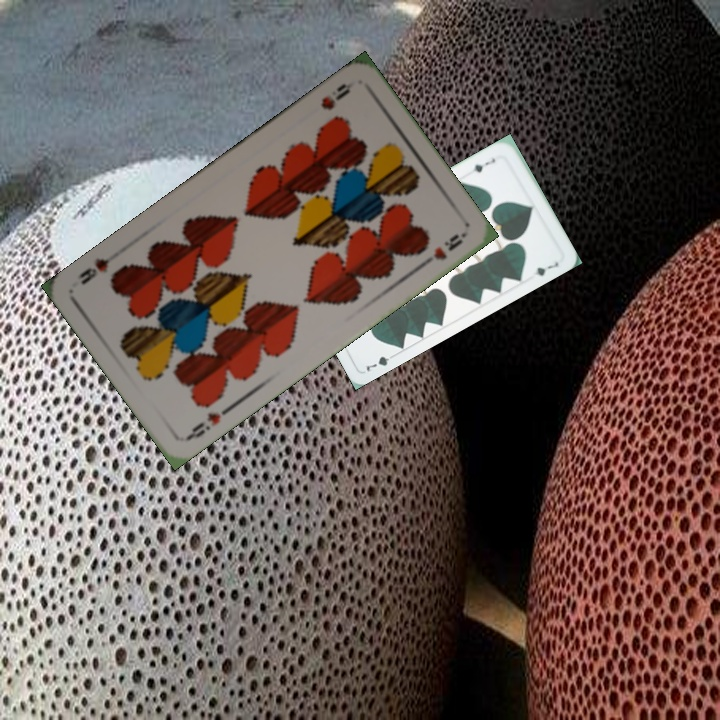G7: (362, 349, 399, 374), (469, 154, 498, 175)
H9: (182, 408, 224, 443), (316, 79, 353, 113)
